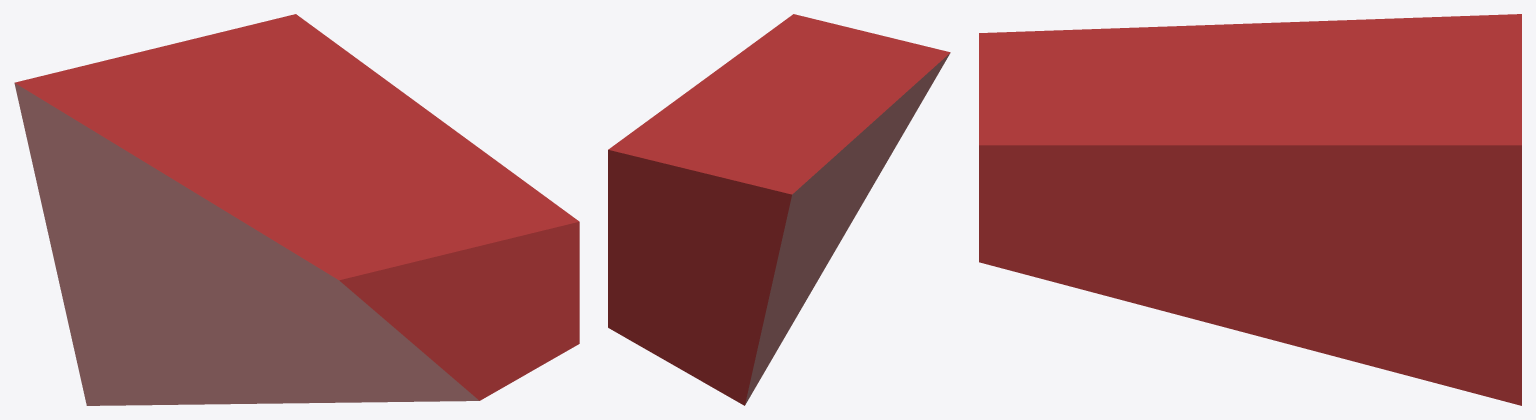
The model's file is wrong1.fbx.
3 views of the same model, side by side, from view 1: azimuth 30°, elevation 25°; view 2: azimuth 150°, elevation 25°; view 3: azimuth 270°, elevation 25° (orthographic). The views are drawn at different scales.
Visible parts, largest first — view 1: wrong1; view 2: wrong1; view 3: wrong1.
Part boxes in pixels (<box>): wrong1: <box>14,14,579,405</box>; wrong1: <box>608,14,950,405</box>; wrong1: <box>979,14,1521,405</box>.
Bounding box in the file's own units: 33.43 × 38.68 × 58.33.
